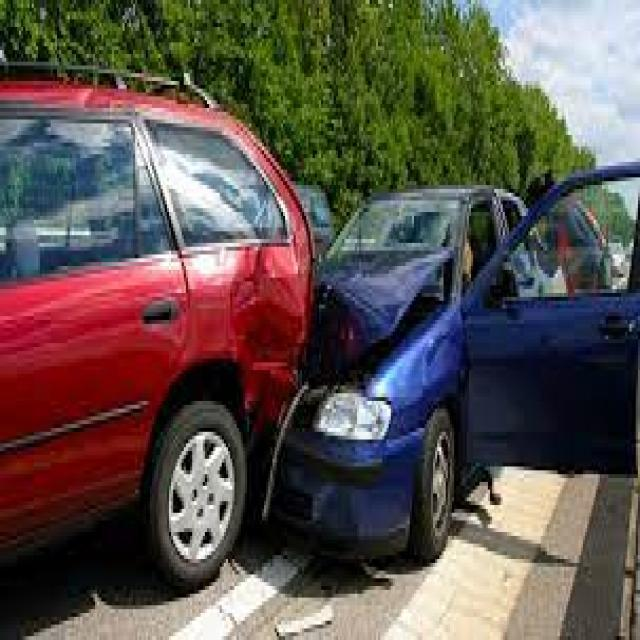accident: (0, 42, 609, 607)
